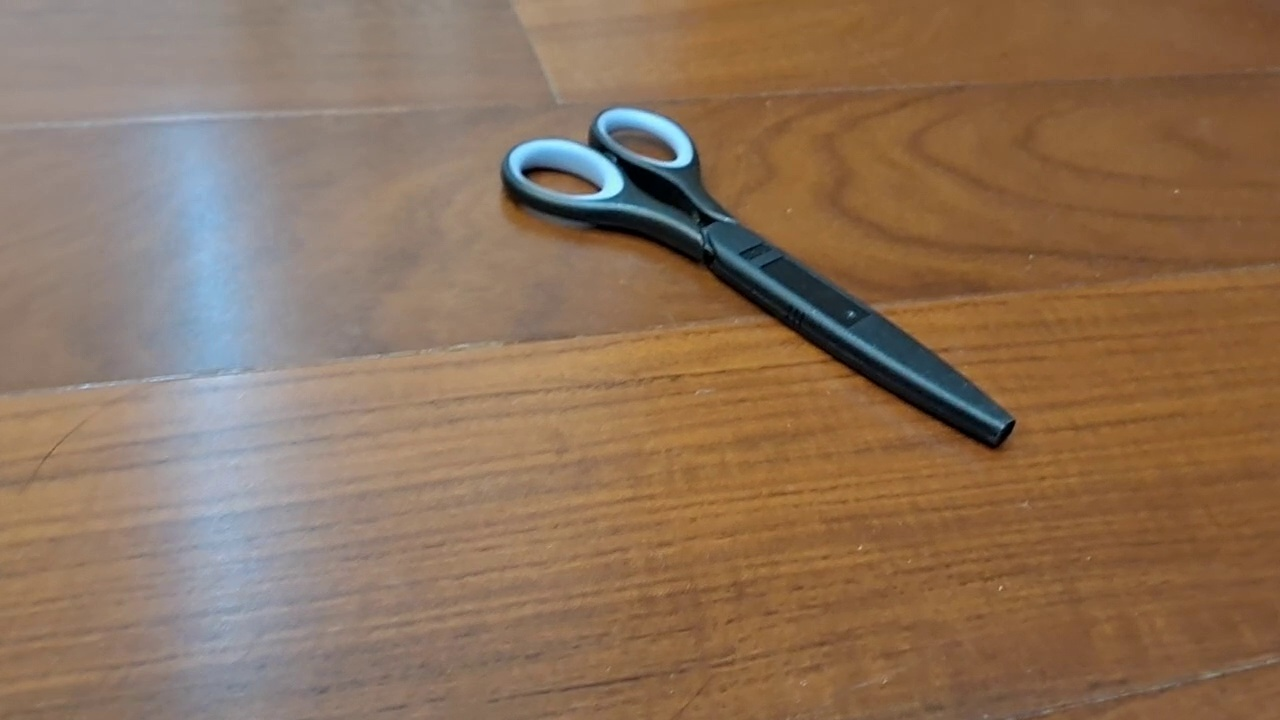scissors: (500, 104, 1018, 450)
